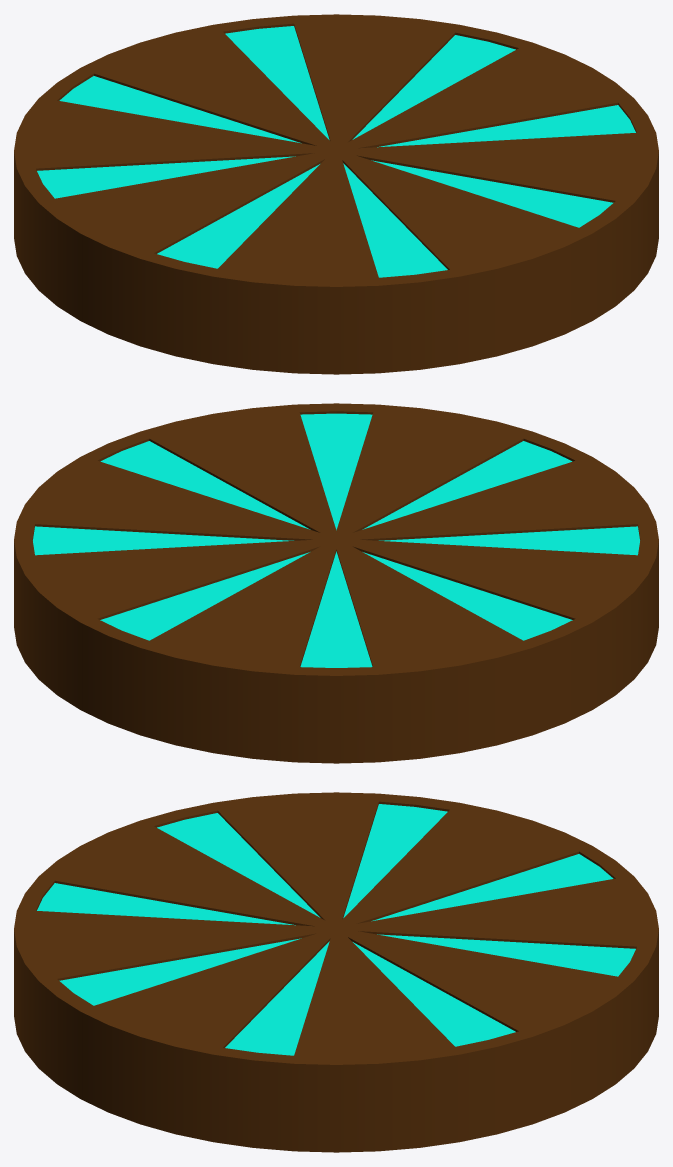
File: hexRocksBaseCircle.fbx
3 renders of one model, top to bottom at view 1: azimuth 30°, elevation 25°; view 2: azimuth 150°, elevation 25°; view 3: azimuth 270°, elevation 25°, orthographic.
Parts seen in each view (by area): view 1: pCylinder34 (×2); view 2: pCylinder34 (×2); view 3: pCylinder34 (×2).
Boxes of the visible parts, <box> form: pCylinder34 (×2): <box>14,14,658,374</box>; pCylinder34 (×2): <box>14,403,658,763</box>; pCylinder34 (×2): <box>14,792,658,1152</box>.
Bounding box in the file's own units: 41.03 × 6.15 × 41.03.
